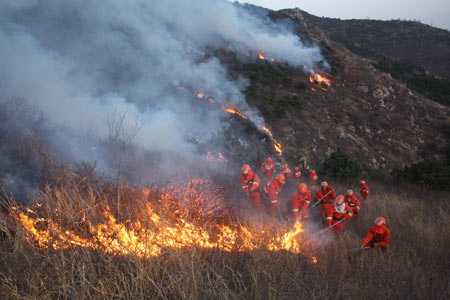fire: (6, 177, 144, 261), (145, 177, 243, 262), (276, 223, 327, 261), (244, 214, 275, 260), (253, 119, 289, 157), (162, 73, 195, 104), (197, 33, 252, 50), (278, 215, 326, 232), (239, 51, 284, 68), (172, 52, 212, 70), (198, 85, 223, 112), (305, 74, 340, 92), (225, 100, 249, 125), (292, 55, 309, 72), (342, 66, 360, 81), (330, 47, 347, 60)
